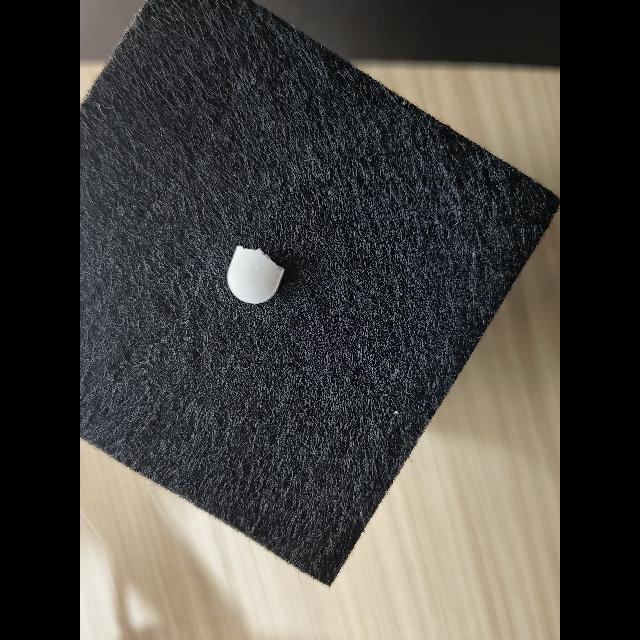Chipped Pill: (227, 246, 285, 304)
